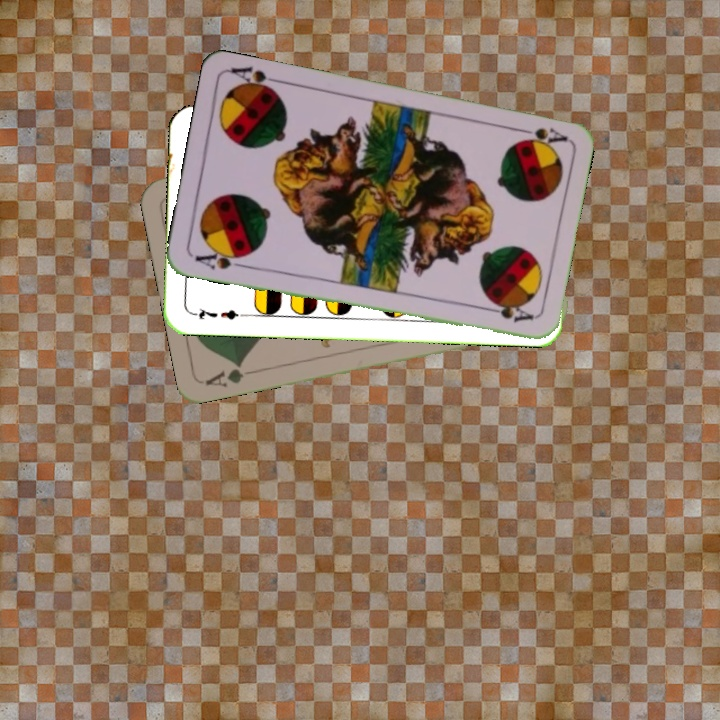E7: (188, 304, 247, 323)
GA: (201, 358, 246, 390)
SA: (191, 245, 250, 272), (510, 123, 569, 149)
